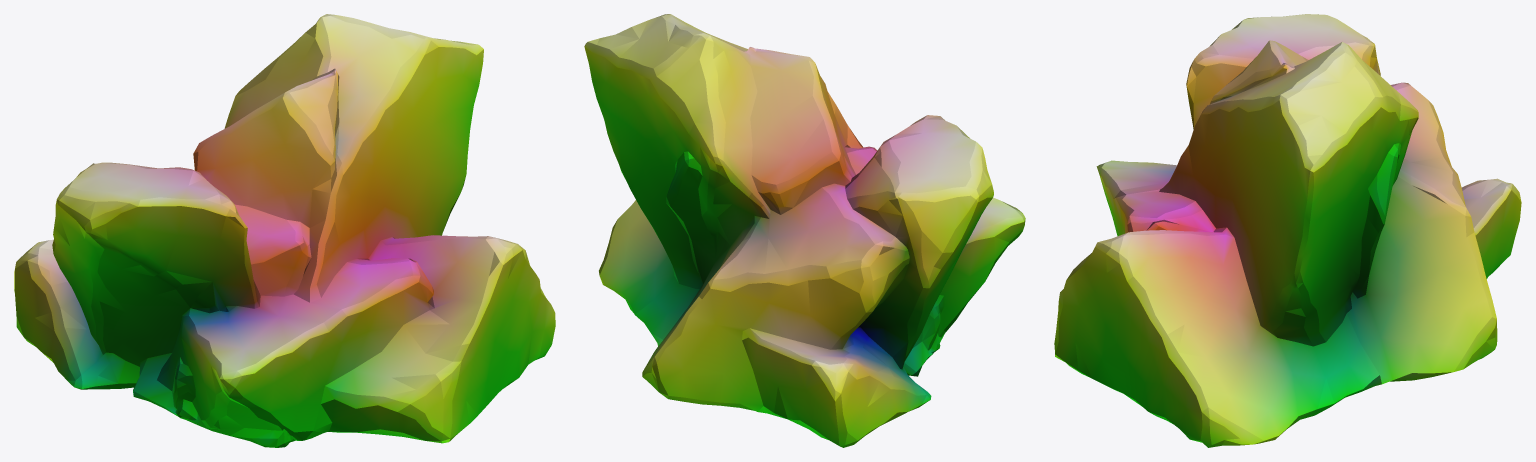
File: rock_group_03_LOD1.fbx
3 renders of one model, left to right at view 1: azimuth 30°, elevation 25°; view 2: azimuth 150°, elevation 25°; view 3: azimuth 270°, elevation 25°, orthographic. The views are drawn at different scales.
Parts seen in each view (by area): view 1: LOD0; view 2: LOD0; view 3: LOD0.
Boxes of the visible parts, x1,y1,x2,y2 form: LOD0: (14,14,555,447); LOD0: (584,14,1025,447); LOD0: (1054,14,1521,447).
Bounding box in the file's own units: 631 × 442 × 572.
